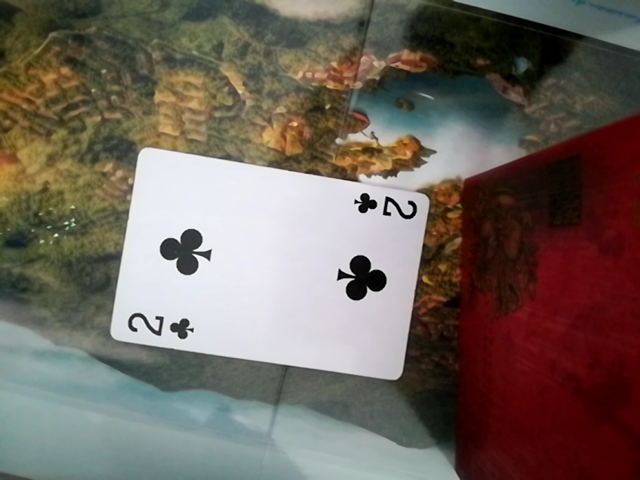mh 2: (110, 152, 434, 386)
